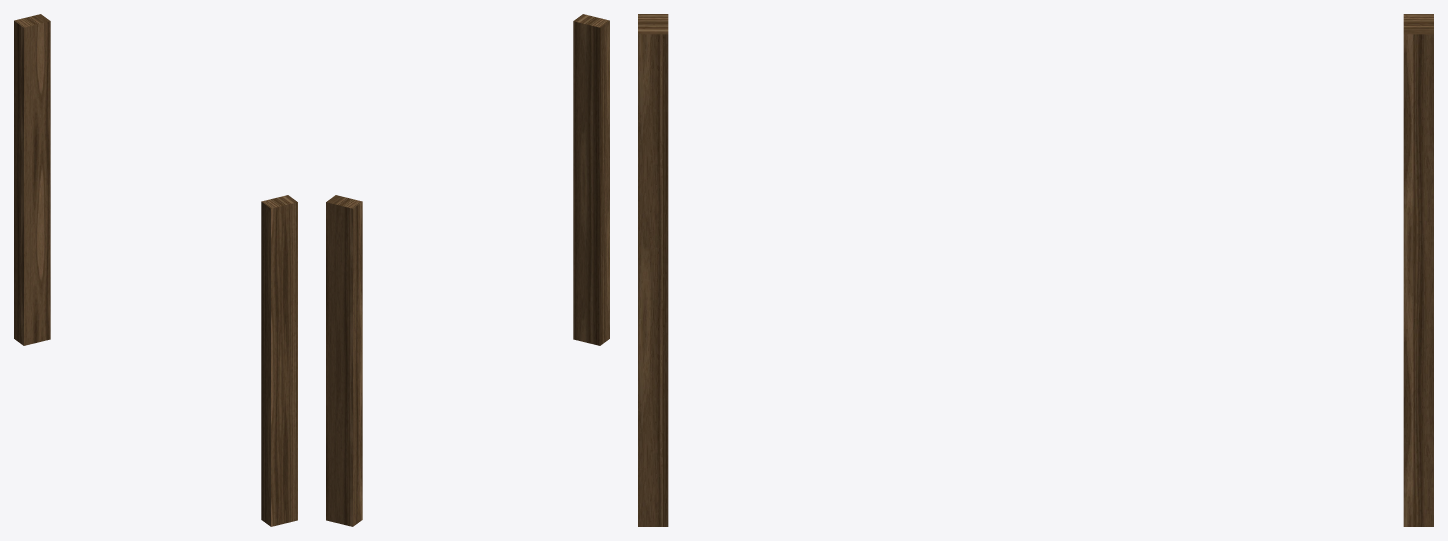
Rendered from Wooden 20.glb.
3 renders of one model, left to right at view 1: azimuth 30°, elevation 25°; view 2: azimuth 150°, elevation 25°; view 3: azimuth 270°, elevation 25°, orthographic. The views are drawn at different scales.
Parts seen in each view (by area): view 1: Wooden_20; view 2: Wooden_20; view 3: Wooden_20.
Part boxes in pixels (x1=…): Wooden_20: x1=14, y1=14, x2=297, y2=526; Wooden_20: x1=326, y1=14, x2=609, y2=526; Wooden_20: x1=638, y1=14, x2=1433, y2=526.
Size of the model in its own units: 0.0795 by 0.9 by 1.32.
1 material, 1 textured.
